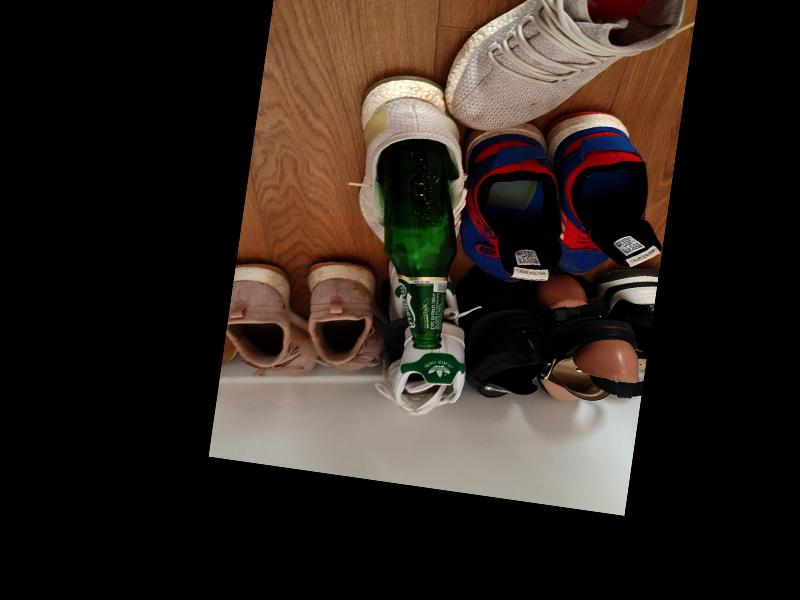Beer: (356, 134, 472, 350)
